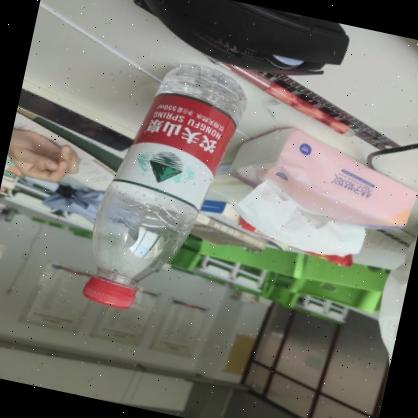bottle: (78, 53, 251, 330)
cap: (78, 267, 138, 314)
label: (120, 84, 240, 216)
